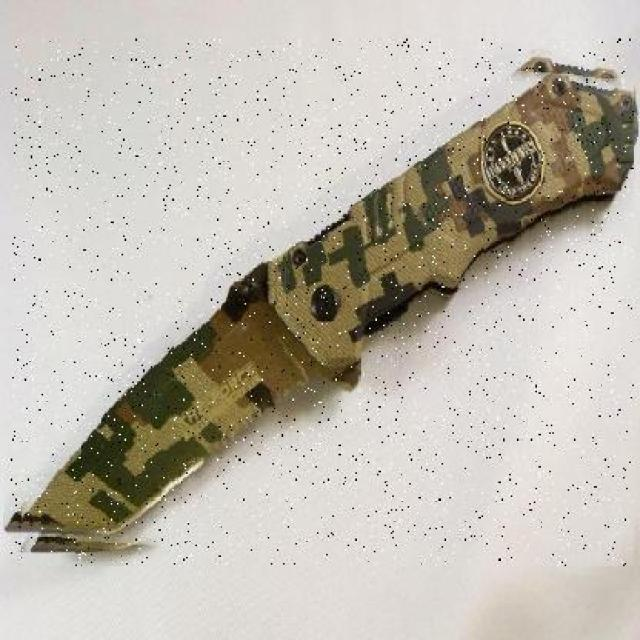knife: (11, 39, 634, 566)
